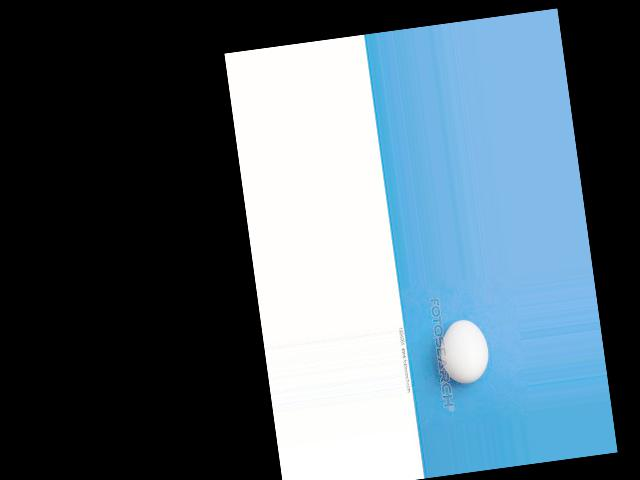egg: (434, 317, 491, 386)
